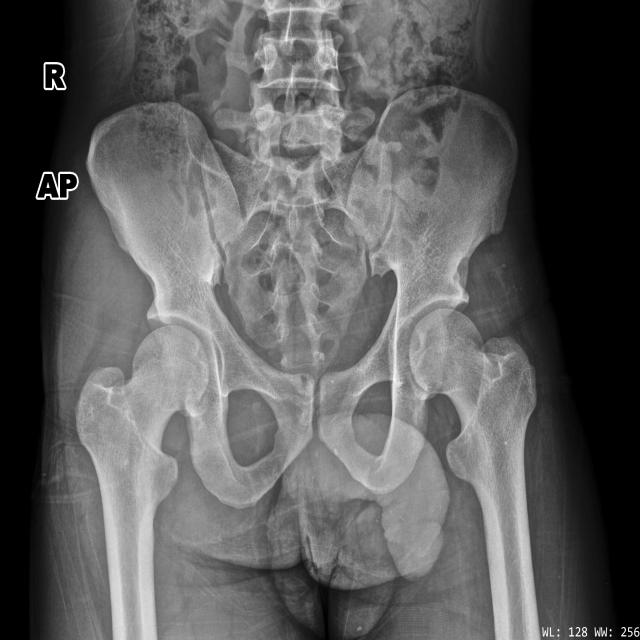normal-left: (409, 309, 537, 593)
normal-right: (75, 325, 208, 609)
